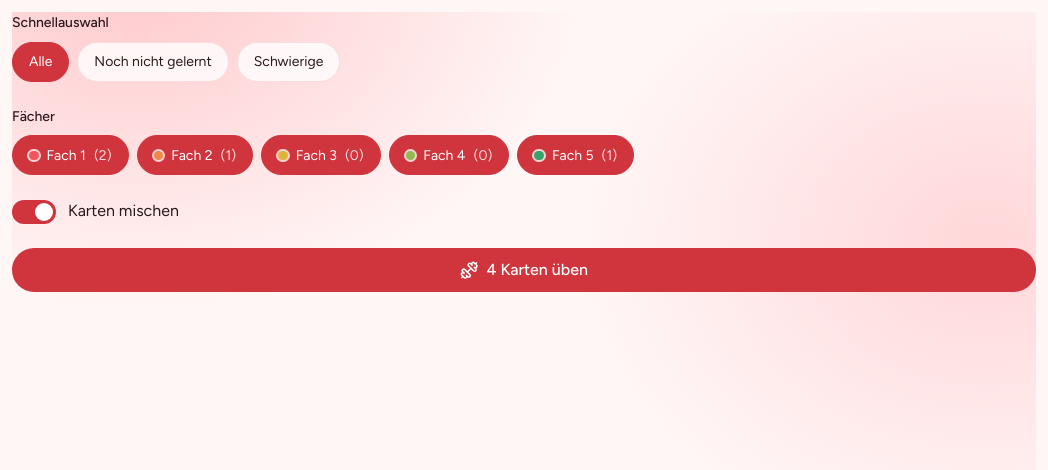
Scenario: BoxFilter › disables the start button when no card is selected
Later steps or results of the test are not shown.
only box 3 and 4 (both empty)
Click the button "Schwierige".
click(288, 62)  # box [237,42,340,82]
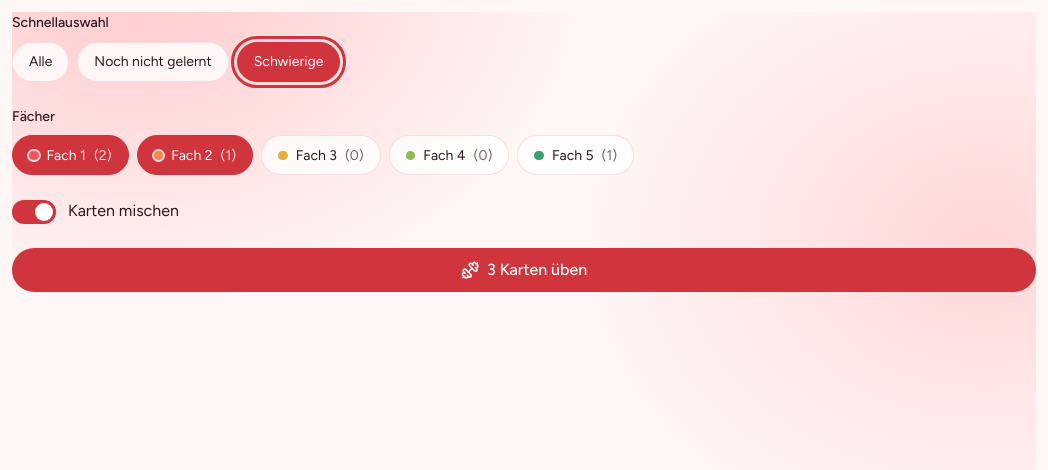
Click the checkbox labelled "Fach 1 (2)".
click(70, 155)  # box [12,135,129,175]
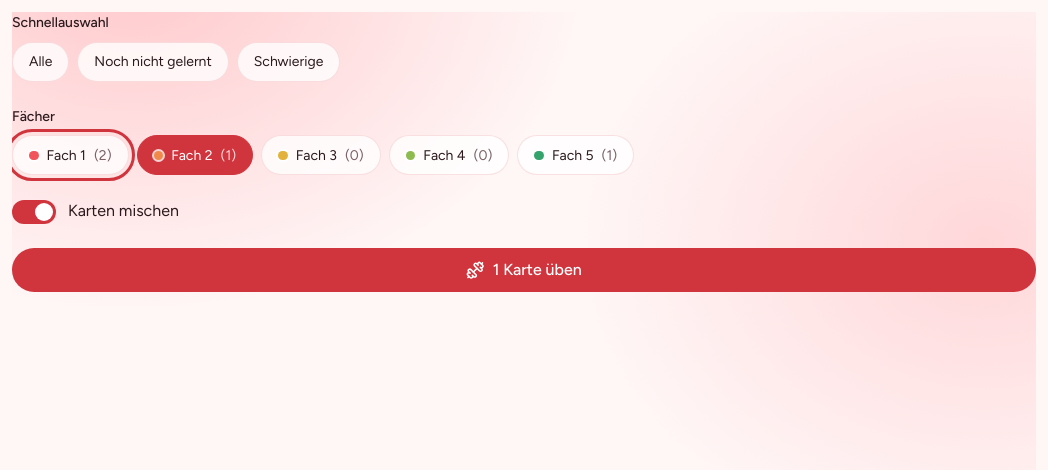
Click the checkbox labelled "Fach 2 (1)".
click(195, 155)  # box [137,135,253,175]
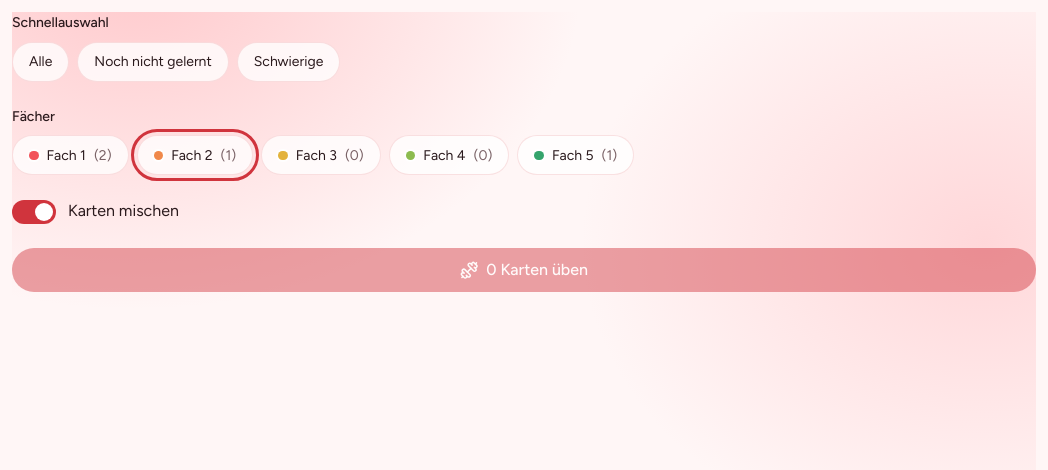
Result: the button "0 Karten üben" is disabled at [12,248,1036,292]
